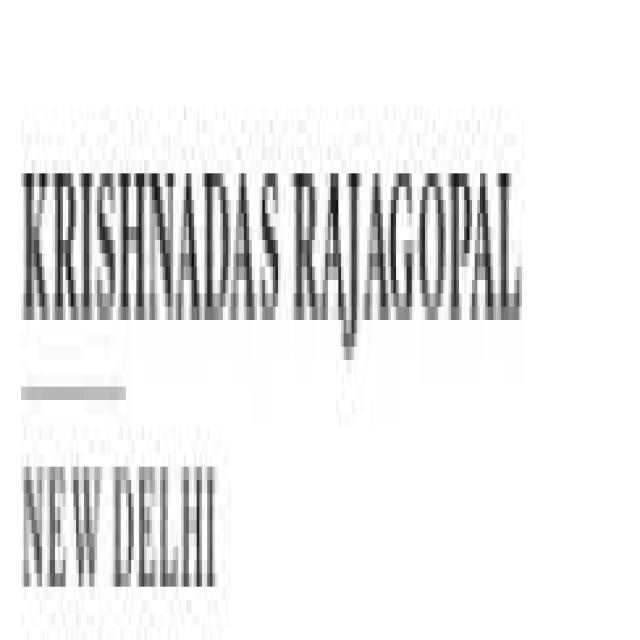paper: (2, 13, 640, 639)
